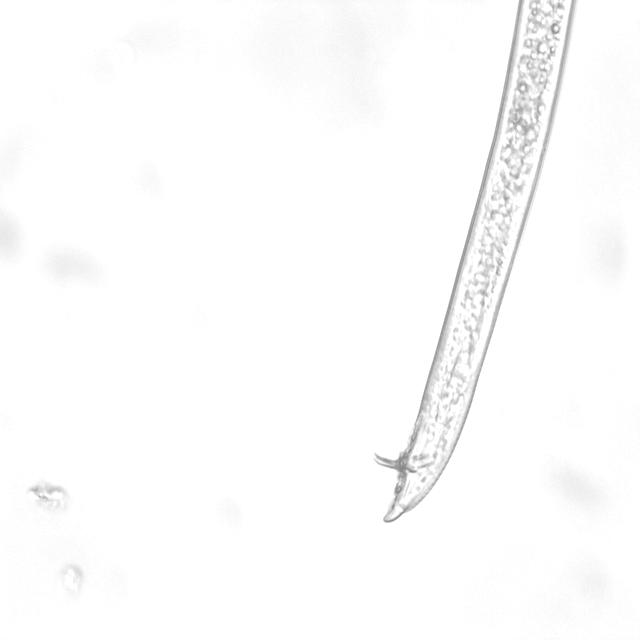Helicotylenchus: (363, 0, 572, 538)
